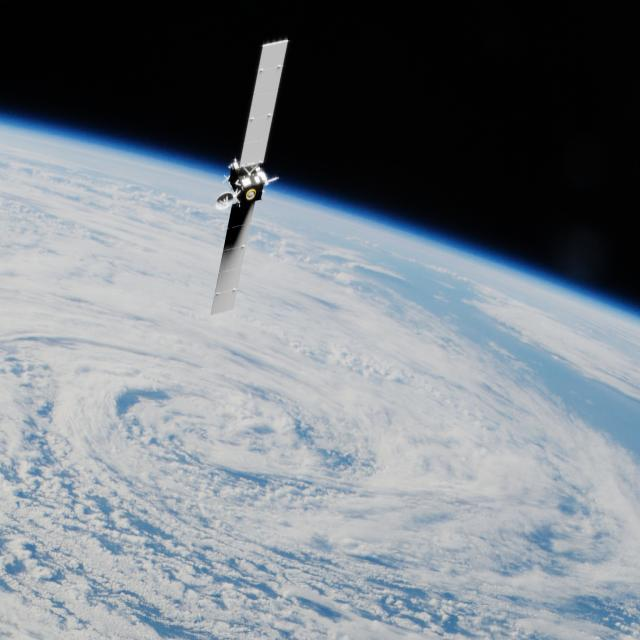satellite: (218, 27, 302, 328)
